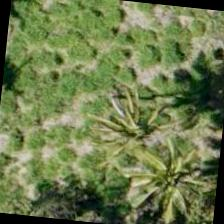Kelapa_Sawit: (92, 72, 190, 172), (109, 134, 209, 223)
